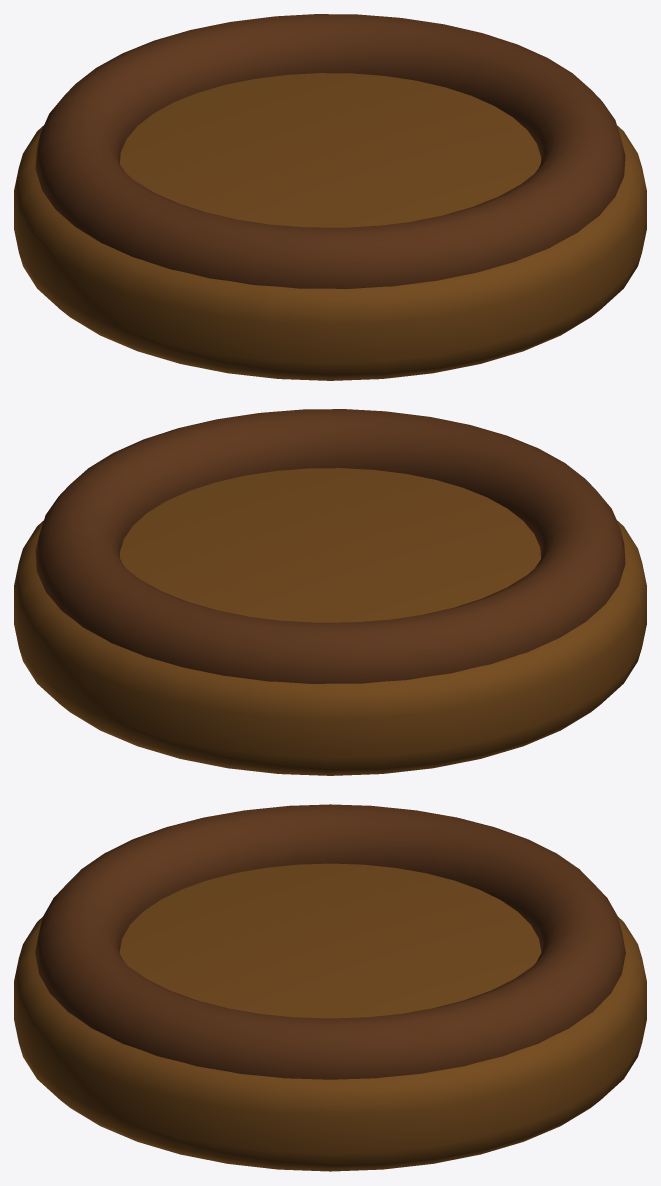
The model's file is item_patty.glb.
3 renders of one model, top to bottom at view 1: azimuth 30°, elevation 25°; view 2: azimuth 150°, elevation 25°; view 3: azimuth 270°, elevation 25°, orthographic.
Visible parts, largest first — view 1: patty, edge; view 2: patty, edge; view 3: patty, edge.
Boxes of the visible parts, x1,y1,x2,y2 form: patty: (14,73,646,380); edge: (35,14,625,289); patty: (14,468,646,775); edge: (35,409,625,684); patty: (14,863,646,1171); edge: (35,804,625,1079).
Bounding box in the file's own units: 0.3 × 0.0695 × 0.3.
